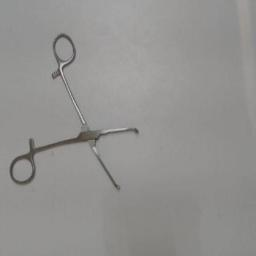Allis Tissue Forceps: (6, 28, 148, 196)
